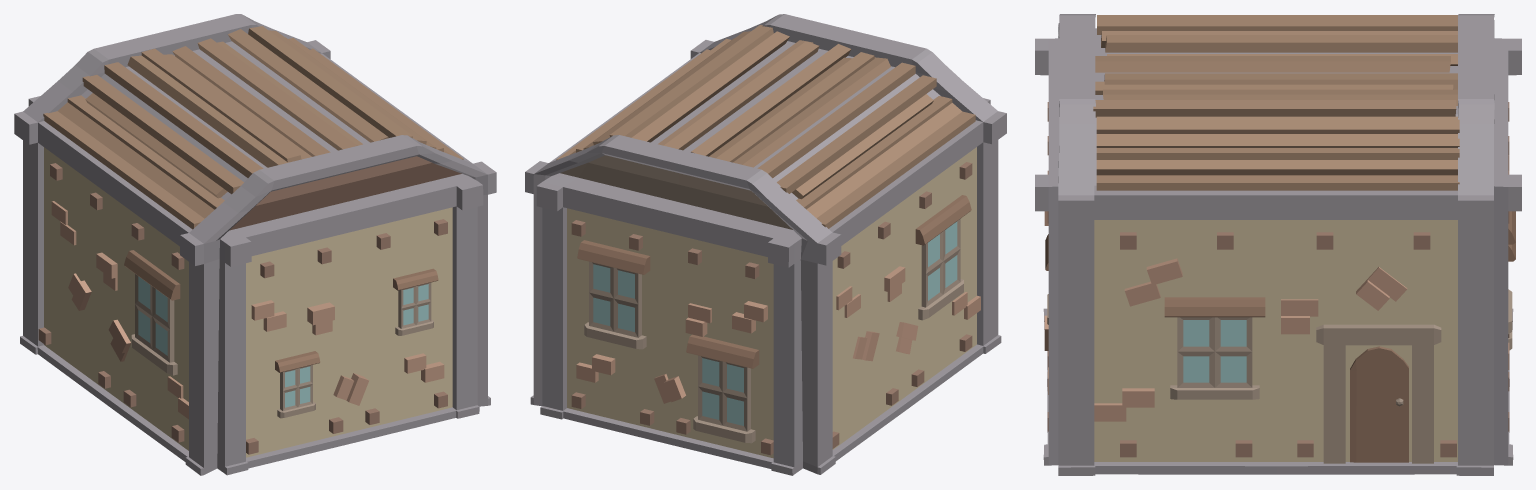
File: huis02.fbx
The picture shows the model from 3 angles, left to right: view 1: azimuth 30°, elevation 25°; view 2: azimuth 150°, elevation 25°; view 3: azimuth 270°, elevation 25°; orthographic projection. The views are drawn at different scales.
Visible parts, largest first — view 1: Huis01; view 2: Huis01; view 3: Huis01.
Boxes of the visible parts, bbox=[...] form: Huis01: bbox=[14, 14, 496, 475]; Huis01: bbox=[525, 14, 1006, 475]; Huis01: bbox=[1035, 14, 1521, 475].
Size of the model in its own units: 7.55 by 6.62 by 8.76.
